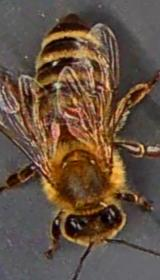varroa_mite: (61, 102, 95, 120)
